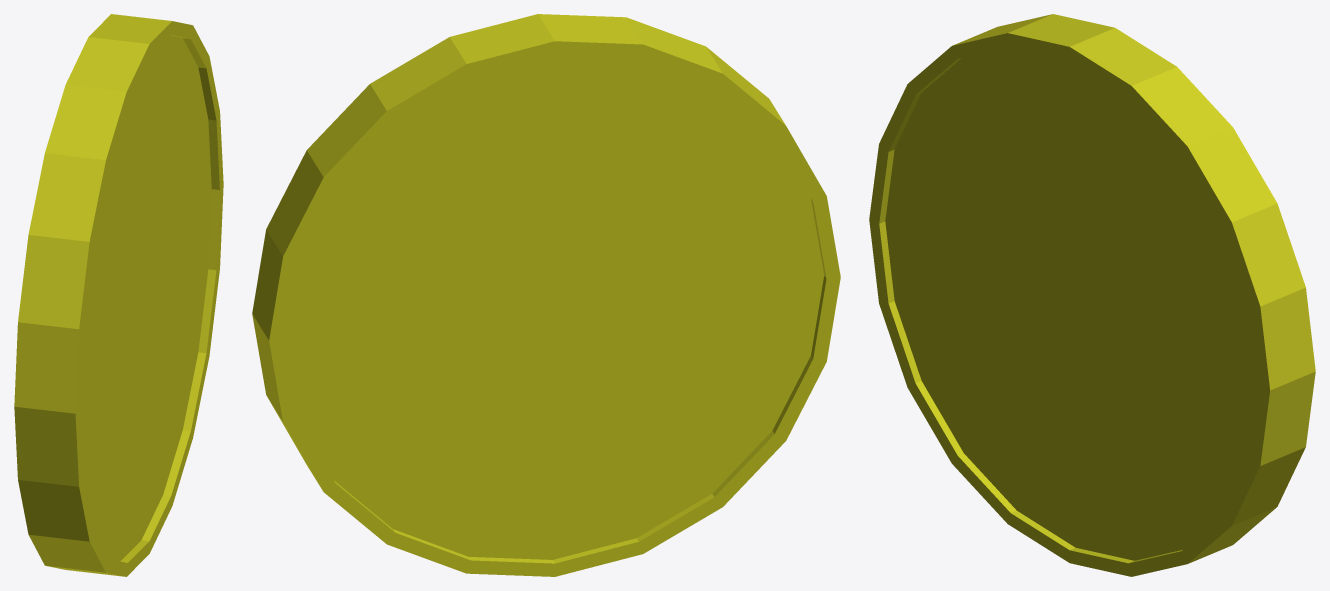
Rendered from Low Poly Coin_000194.obj.
3 renders of one model, left to right at view 1: azimuth 30°, elevation 25°; view 2: azimuth 150°, elevation 25°; view 3: azimuth 270°, elevation 25°, orthographic. The views are drawn at different scales.
Visible parts, largest first — view 1: Cylinder; view 2: Cylinder; view 3: Cylinder.
Part boxes in pixels (bbox=[...]): Cylinder: bbox=[14, 14, 223, 576]; Cylinder: bbox=[252, 14, 840, 576]; Cylinder: bbox=[869, 14, 1315, 576].
Size of the model in its own units: 1.58 by 2 by 1.57.
